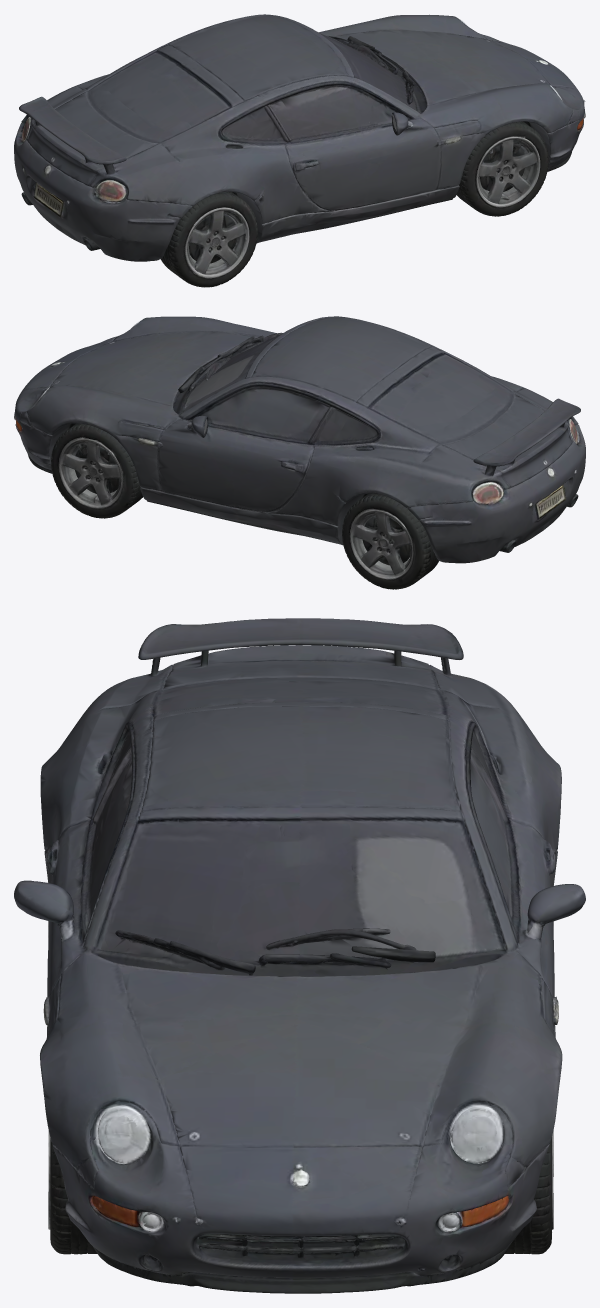
Rendered from teardrop-coupe.glb.
3 views of the same model, one above another, from view 1: azimuth 30°, elevation 25°; view 2: azimuth 150°, elevation 25°; view 3: azimuth 270°, elevation 25° (orthographic). The views are drawn at different scales.
Visible parts, largest first — view 1: tripo_node_25f2c433-febf-4714-8a16-acf5a37a2254; view 2: tripo_node_25f2c433-febf-4714-8a16-acf5a37a2254; view 3: tripo_node_25f2c433-febf-4714-8a16-acf5a37a2254.
Boxes of the visible parts, x1,y1,x2,y2 form: tripo_node_25f2c433-febf-4714-8a16-acf5a37a2254: (14, 14, 585, 287); tripo_node_25f2c433-febf-4714-8a16-acf5a37a2254: (14, 316, 585, 589); tripo_node_25f2c433-febf-4714-8a16-acf5a37a2254: (14, 618, 585, 1293).
Size of the model in its own units: 0.9806 by 0.3087 by 0.4867.
1 material, 1 textured.
